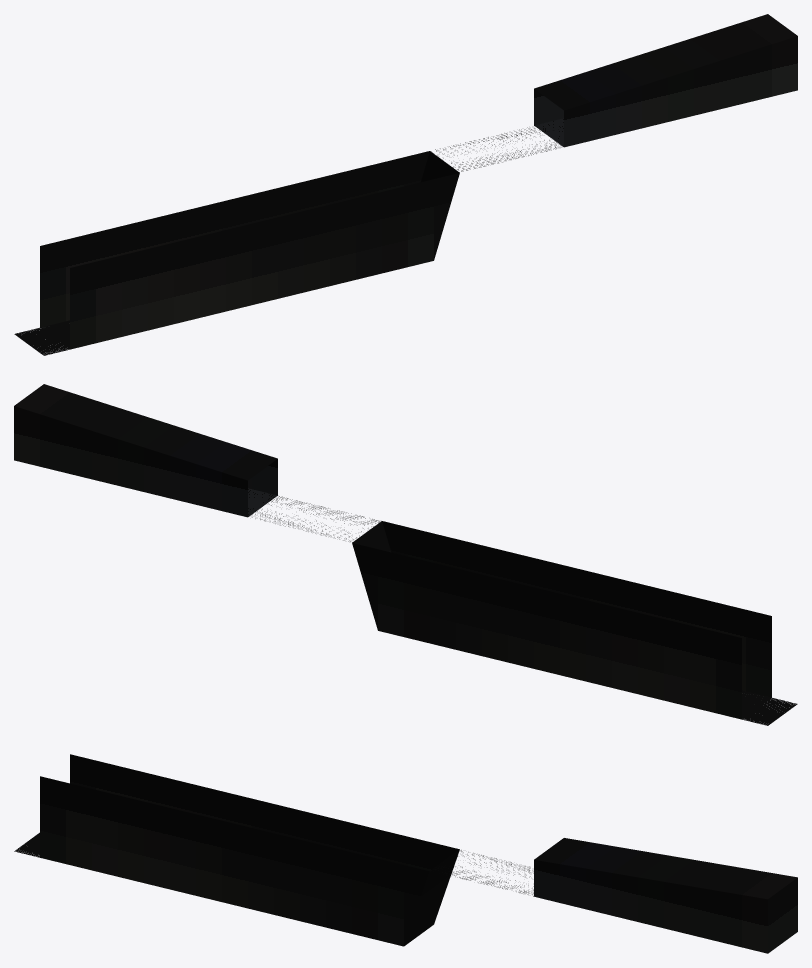
Rendered from npcs_04.fbx.
The picture shows the model from 3 angles, top to bottom: view 1: azimuth 30°, elevation 25°; view 2: azimuth 150°, elevation 25°; view 3: azimuth 330°, elevation 25°; orthographic projection.
Parts seen in each view (by area): view 1: geometry_0; view 2: geometry_0; view 3: geometry_0.
Part boxes in pixels (x1,y1,x2,y2): geometry_0: [14, 14, 797, 355]; geometry_0: [14, 384, 797, 725]; geometry_0: [14, 754, 797, 953].
Size of the model in its own units: 0.29 by 0.05 by 0.02.
1 material, 1 textured.
